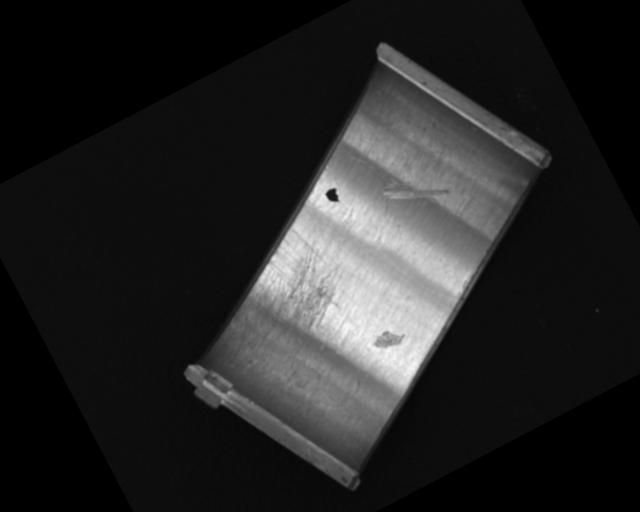blot: (322, 184, 343, 206)
bruise: (369, 322, 407, 355)
nick: (346, 146, 400, 223), (381, 165, 450, 221)
scratch: (210, 212, 365, 361)
